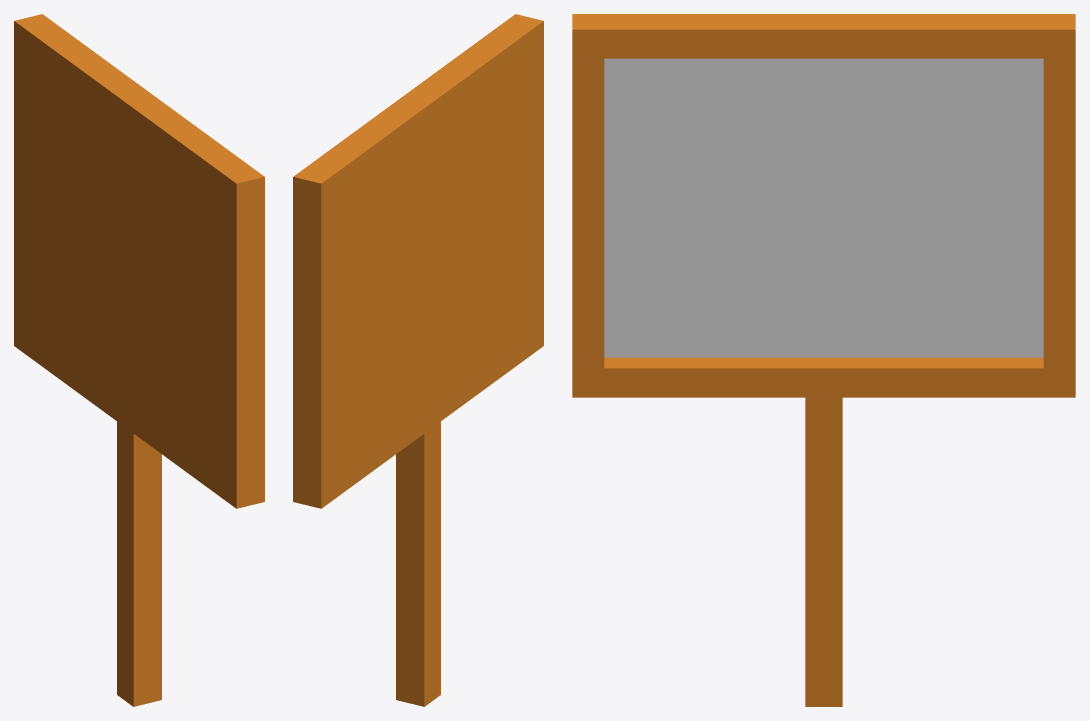
File: Board_model.fbx
3 views of the same model, side by side, from view 1: azimuth 30°, elevation 25°; view 2: azimuth 150°, elevation 25°; view 3: azimuth 270°, elevation 25° (orthographic). The views are drawn at different scales.
Visible parts, largest first — view 1: Cube; view 2: Cube; view 3: Cube.
Boxes of the visible parts, x1=… form: Cube: x1=14, y1=14, x2=264, y2=706; Cube: x1=293, y1=14, x2=543, y2=706; Cube: x1=572, y1=14, x2=1075, y2=706.
Size of the model in its own units: 200 by 4040 by 2721.
